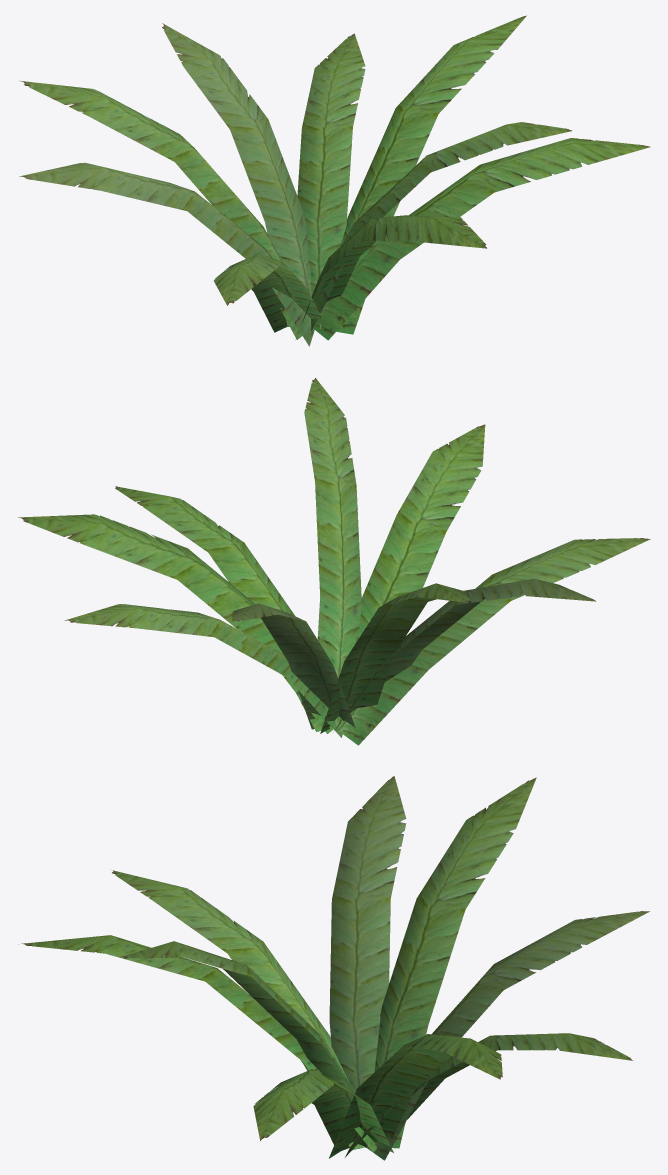
The model's file is GrassPlant_01_02.obj.
3 views of the same model, one above another, from view 1: azimuth 30°, elevation 25°; view 2: azimuth 150°, elevation 25°; view 3: azimuth 270°, elevation 25° (orthographic). The views are drawn at different scales.
Parts seen in each view (by area): view 1: polySurface59; view 2: polySurface59; view 3: polySurface59.
Boxes of the visible parts, box(x1,y1,x2,y2) form: polySurface59: box(19, 15, 650, 346); polySurface59: box(18, 378, 650, 745); polySurface59: box(18, 776, 649, 1160).
Size of the model in its own units: 19.72 by 8.35 by 17.74.
Materials: 1 (1 with a texture image).
